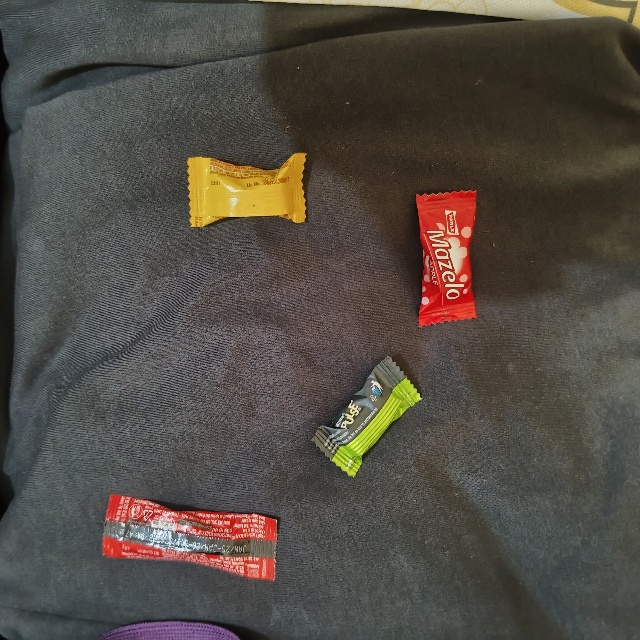Alpenlibe Creamfills: (187, 155, 308, 225)
Mazelo: (416, 193, 482, 321)
Nescafe Coffee: (108, 490, 288, 560)
Pulse: (386, 353, 443, 469)
